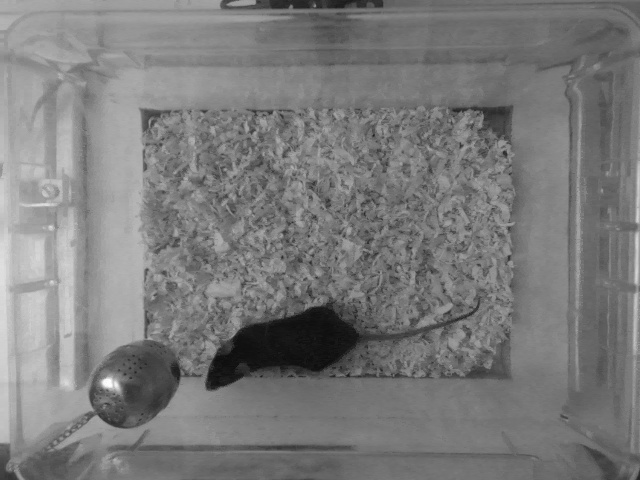mice: (204, 290, 486, 395)
